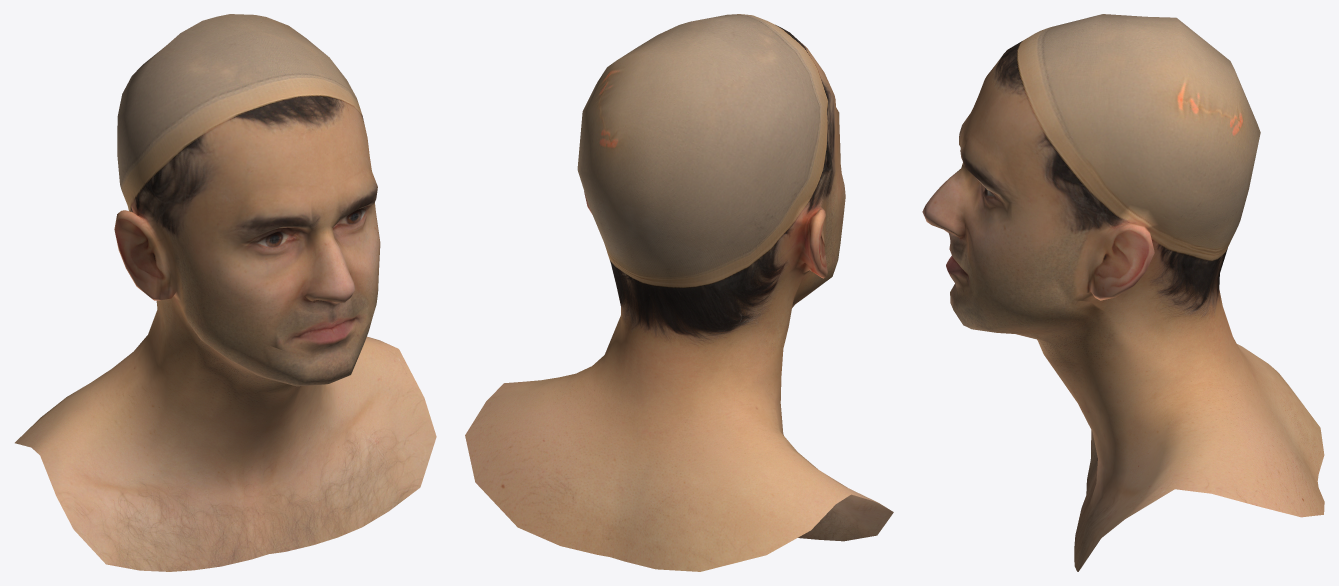
The model's file is head.glb.
3 views of the same model, side by side, from view 1: azimuth 30°, elevation 25°; view 2: azimuth 150°, elevation 25°; view 3: azimuth 270°, elevation 25° (orthographic).
Visible parts, largest first — view 1: Object_2; view 2: Object_2; view 3: Object_2.
Part boxes in pixels (x1,y1,x2,y2): Object_2: [15, 14, 436, 571]; Object_2: [465, 14, 893, 571]; Object_2: [922, 14, 1324, 571].
Size of the model in its own units: 134 by 181 by 130.
1 material, 1 textured.
